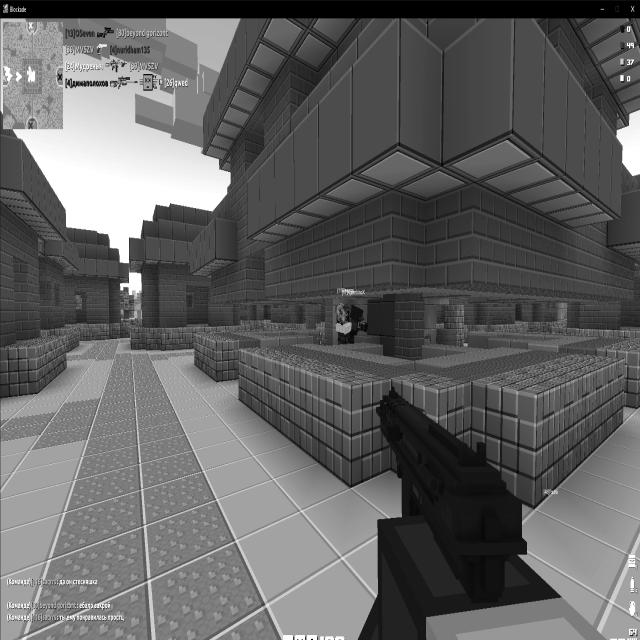Head: (336, 302, 350, 324), (350, 304, 364, 323)
Player: (348, 303, 368, 342), (334, 302, 352, 344)
